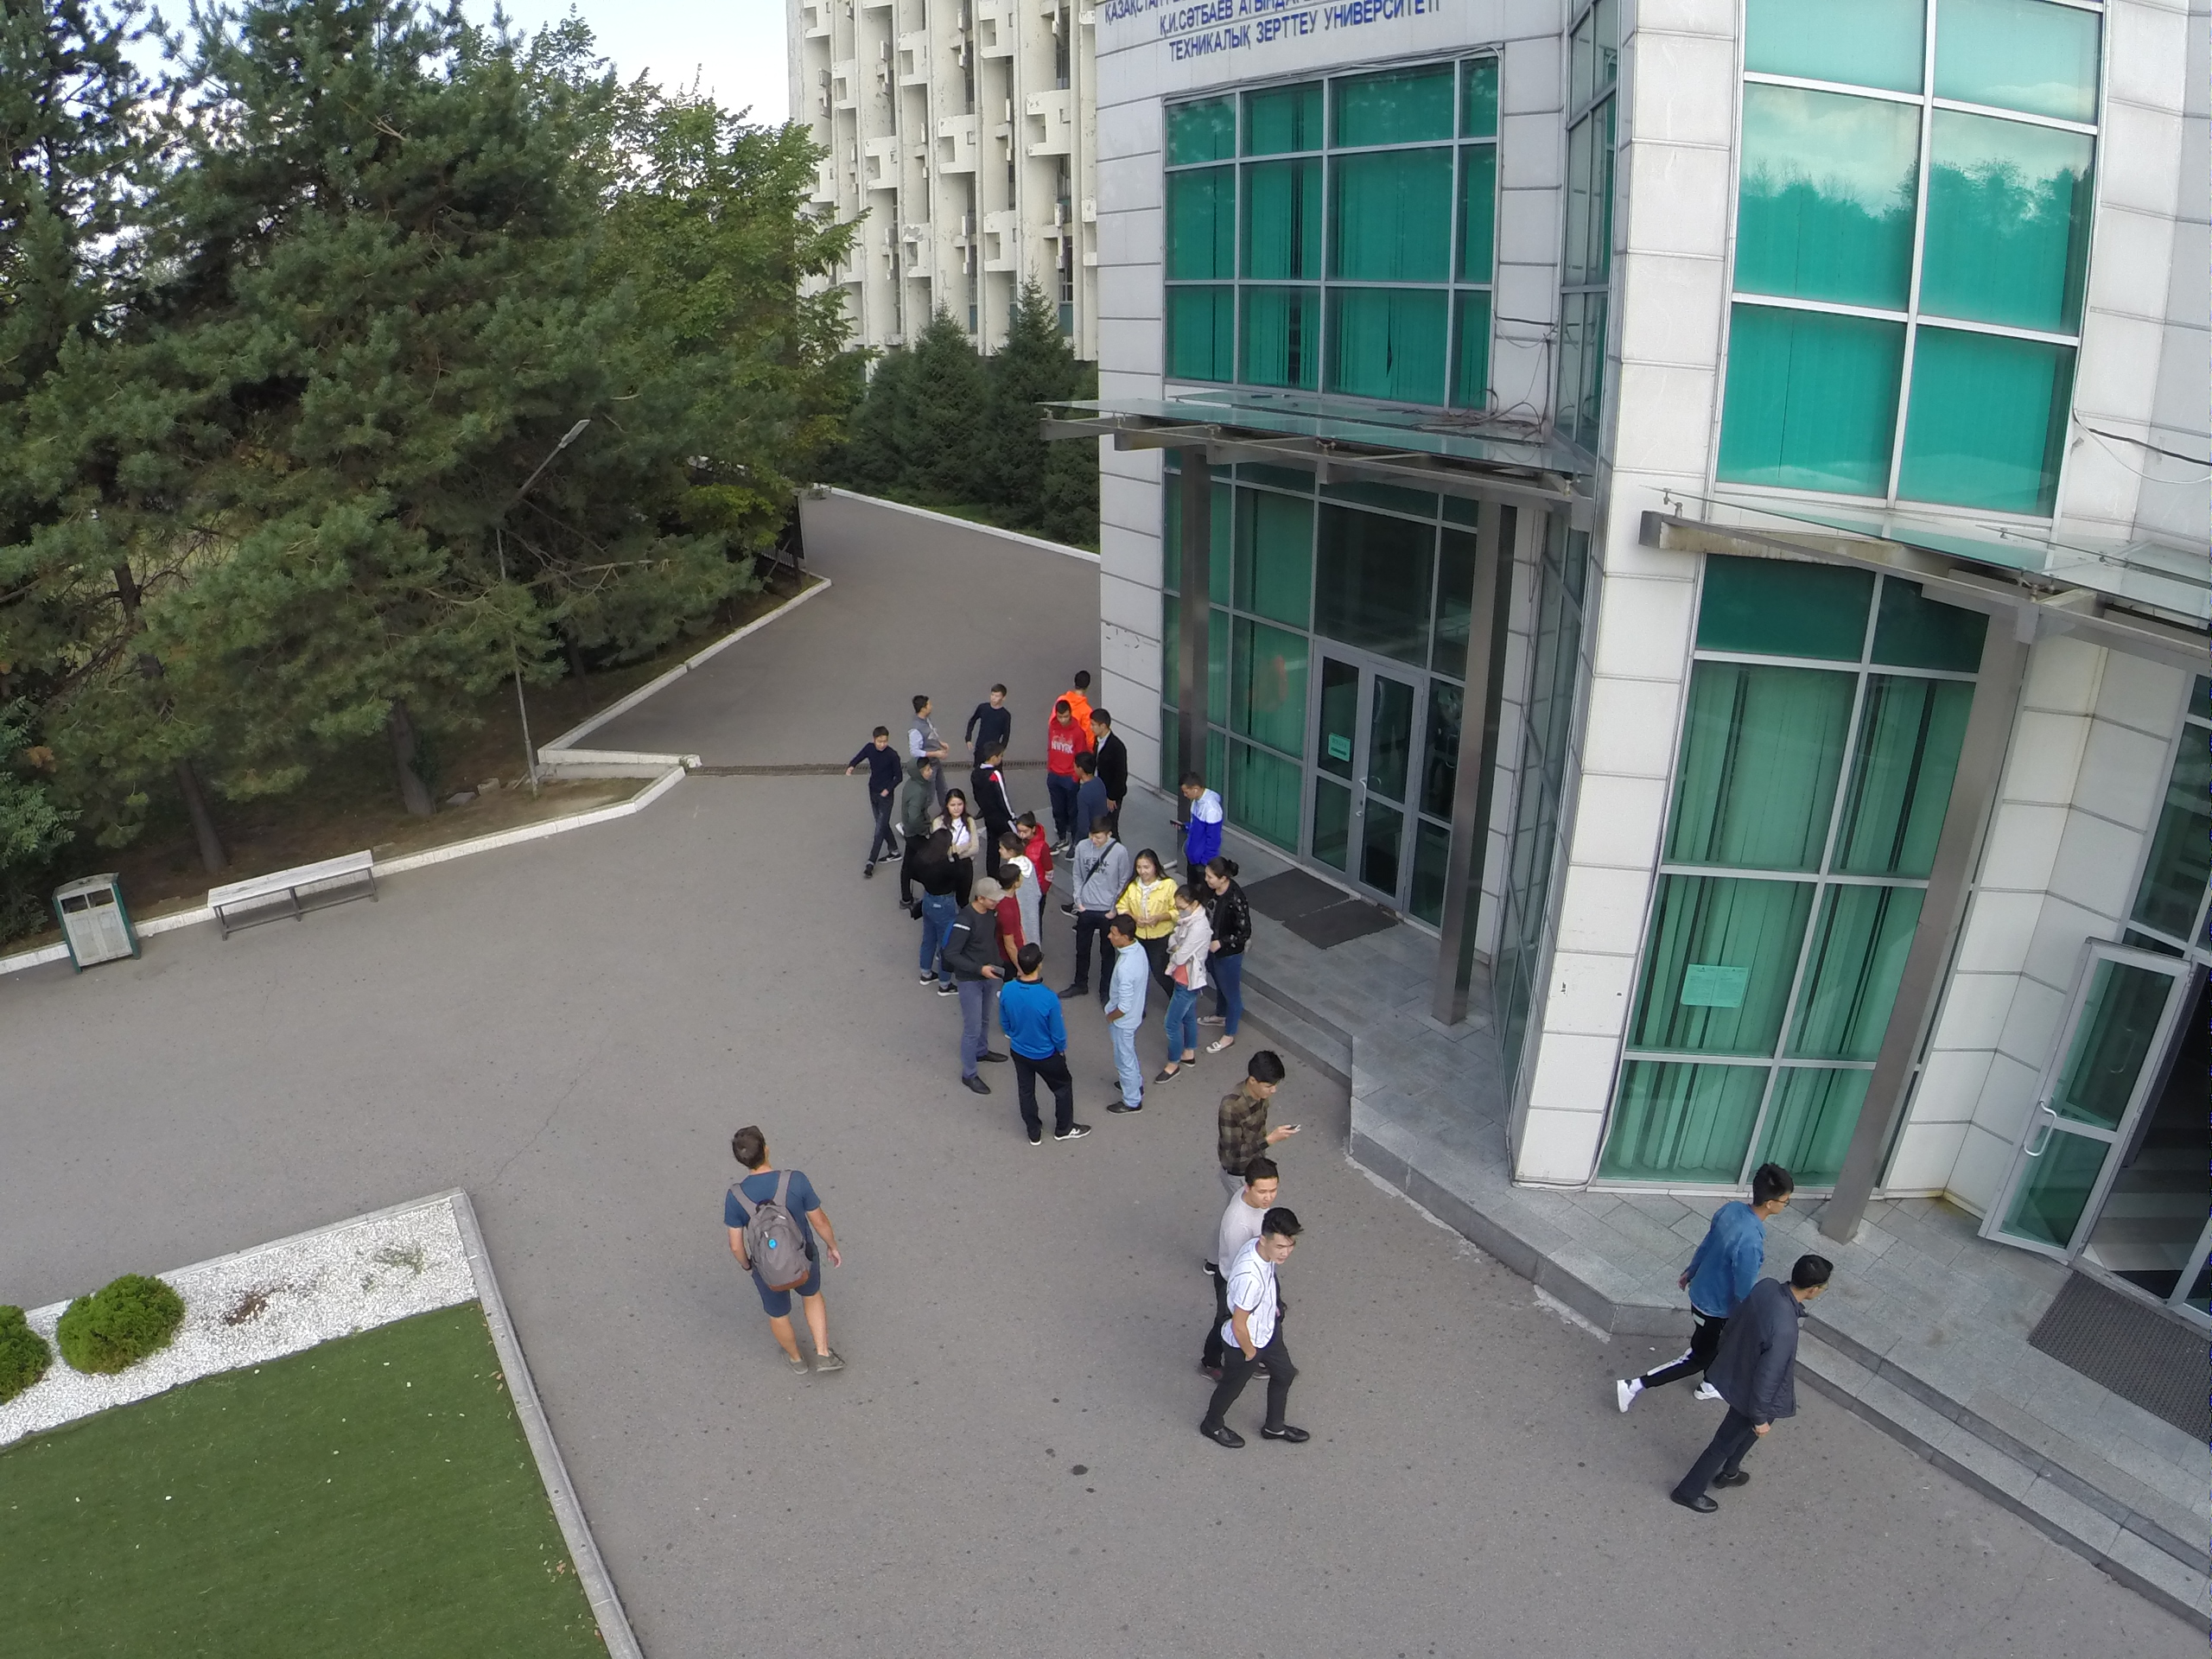person: (1605, 1155, 1796, 1409), (1675, 1244, 1834, 1527), (705, 1119, 858, 1382), (1203, 1217, 1317, 1454), (994, 940, 1093, 1152), (1090, 911, 1153, 1119), (954, 882, 1011, 1103), (1206, 1048, 1304, 1166), (1157, 886, 1207, 1086), (1200, 859, 1249, 1062), (845, 729, 907, 882), (918, 828, 958, 988), (1216, 1153, 1279, 1251), (1073, 817, 1124, 931), (1174, 765, 1233, 859), (1039, 701, 1074, 853), (1003, 842, 1049, 949), (974, 744, 1016, 857), (1121, 844, 1174, 916), (964, 681, 1014, 749), (894, 754, 938, 829), (901, 691, 943, 754), (1072, 749, 1108, 817), (1093, 708, 1126, 777), (946, 783, 977, 851), (1013, 804, 1045, 867), (1066, 671, 1096, 711)
